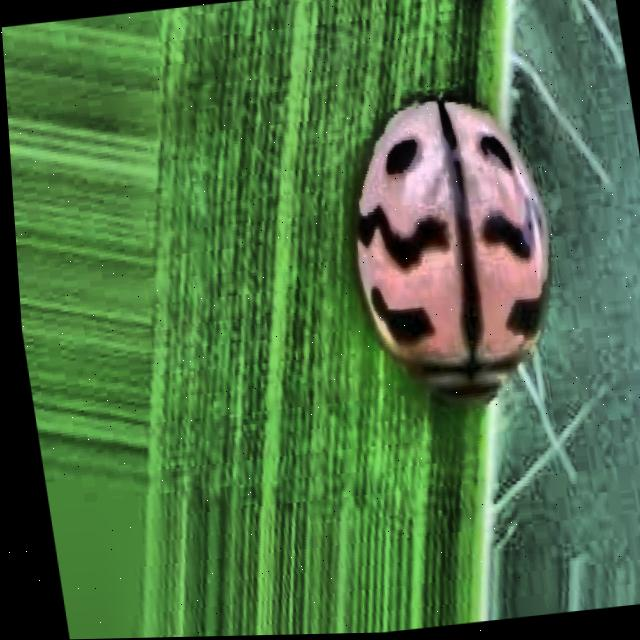Asian-Lady-beetle: (294, 8, 613, 617)
